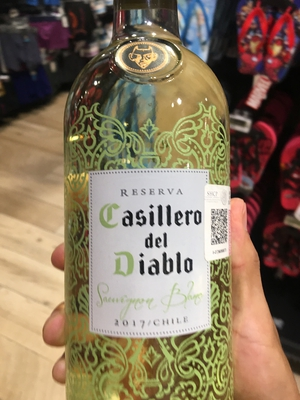casillero del diablo sauvignon blanc: (59, 20, 245, 400)
